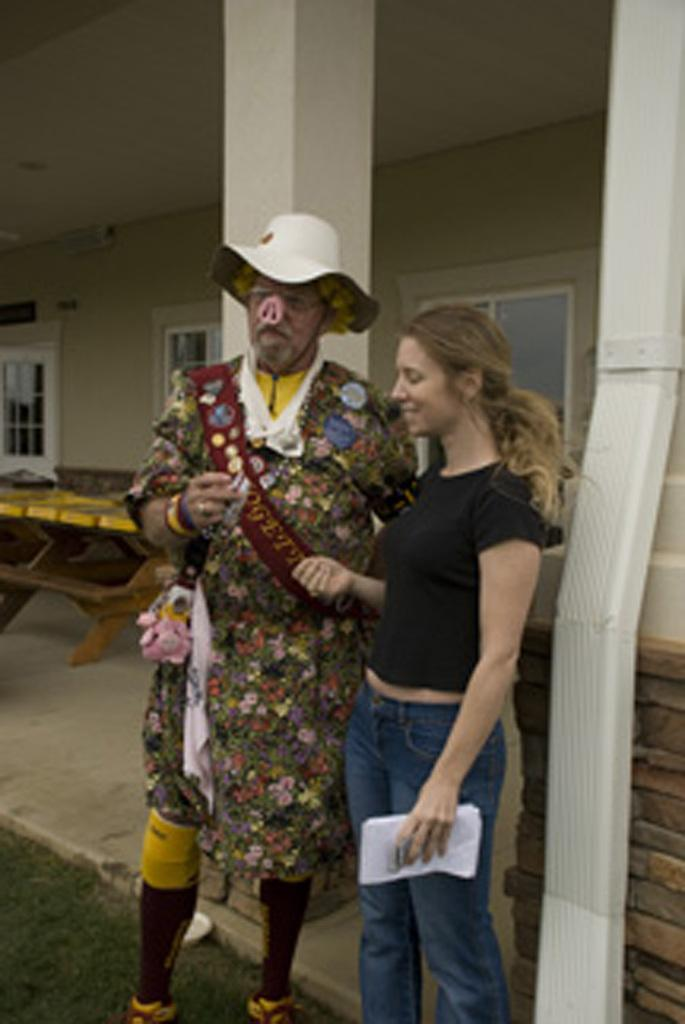Hat: (208, 209, 390, 333)
